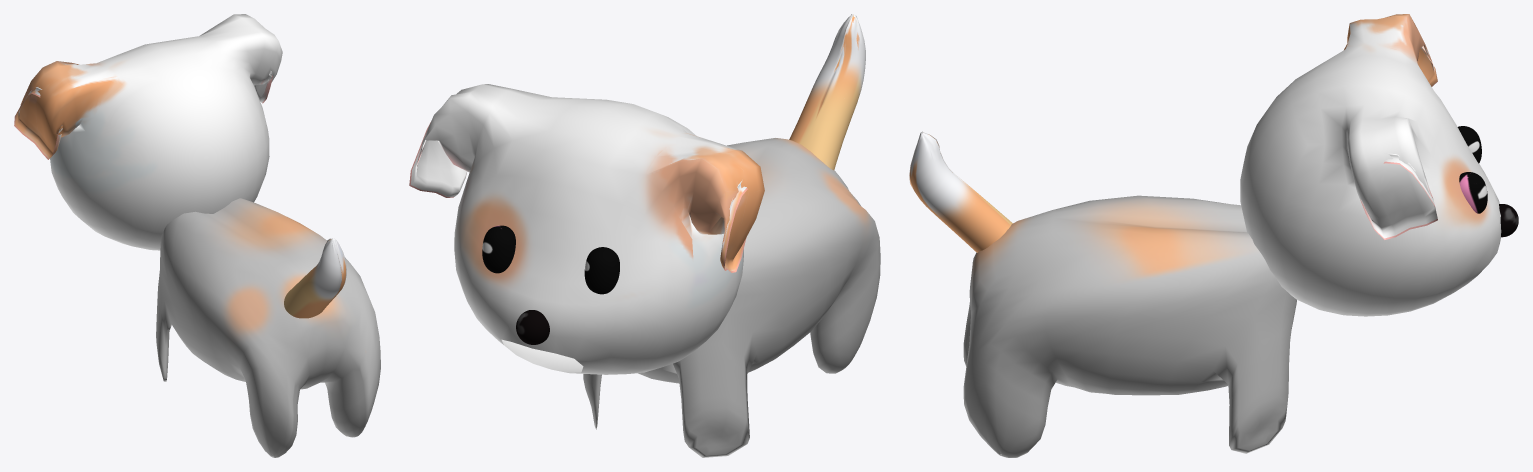
File: sunnyUpdated2.glb
3 views of the same model, side by side, from view 1: azimuth 30°, elevation 25°; view 2: azimuth 150°, elevation 25°; view 3: azimuth 270°, elevation 25° (orthographic). The views are drawn at different scales.
Parts seen in each view (by area): view 1: Sphere.001; view 2: Sphere.001; view 3: Sphere.001.
Part boxes in pixels (x1,y1,x2,y2): Sphere.001: (14, 14, 380, 457); Sphere.001: (409, 14, 880, 457); Sphere.001: (909, 14, 1518, 457).
Size of the model in its own units: 2.61 by 3.08 by 4.65.
6 materials, 6 textured.
